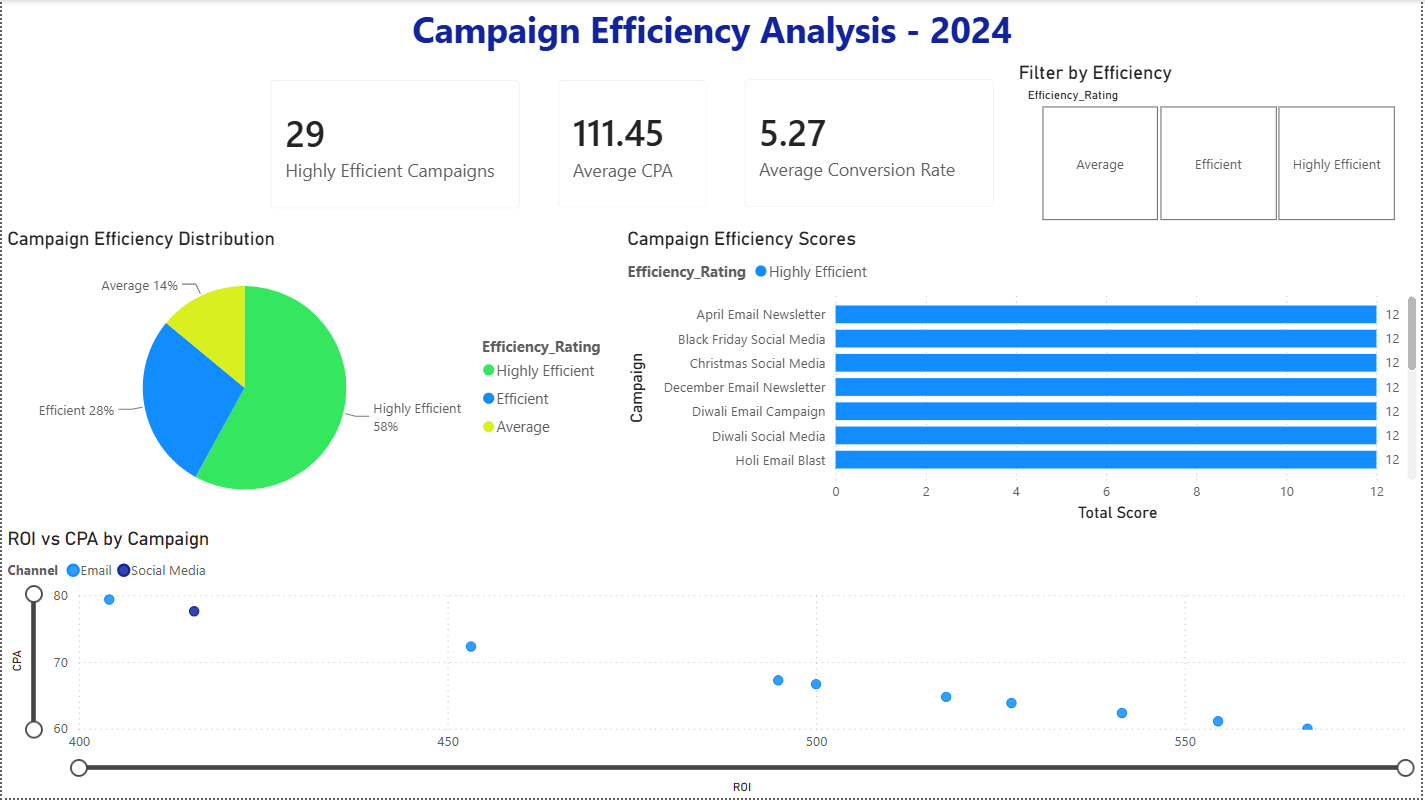

What the dashboard file says about the page in this screenshot:
{"tool":"powerbi","page":{"name":"Efficiency Analysis","canvas":[1280,720],"ordinal":2},"visuals":[{"type":"textbox","box":[0,0,1280.3,57.5],"z":0},{"type":"cardVisual","fields":{"Data":["CountNonNull(Efficiency_Score.Efficiency_Rating)"]},"box":[225,55,259.2,150.4],"z":1000},{"type":"cardVisual","fields":{"Data":["Avg(Efficiency_Score.CPA)"]},"box":[484.2,55,168.8,149.2],"z":2000},{"type":"cardVisual","fields":{"Data":["Avg(Efficiency_Score.Conv_Rate)"]},"box":[653,53.8,259.2,150.4],"z":3000},{"type":"pieChart","title":"Campaign Efficiency Distribution","fields":{"Category":["Efficiency_Score.Efficiency_Rating"],"Y":["CountNonNull(Efficiency_Score.campaign_name)"]},"box":[0,205.4,558.8,270.2],"z":4000},{"type":"clusteredBarChart","title":"Campaign Efficiency Scores","fields":{"Category":["Efficiency_Score.campaign_name"],"Y":["Sum(Efficiency_Score.Total_Score)"],"Series":["Efficiency_Score.Efficiency_Rating"]},"box":[558.8,205.4,721.5,270.2],"z":5000},{"type":"scatterChart","title":"ROI vs CPA by Campaign","fields":{"X":["Avg(Efficiency_Score.ROI)"],"Y":["Avg(Efficiency_Score.CPA)"],"Series":["Efficiency_Score.channel_name"],"Category":["Efficiency_Score.campaign_name"]},"box":[0,475.7,1280.3,244.6],"z":6000},{"type":"slicer","title":"Filter by Efficiency","fields":{"Values":["Efficiency_Score.Efficiency_Rating"]},"box":[912.2,55,368.1,150.4],"z":7000}]}

Visuals, with their boxes in screenshot pixels (x1, y1, x2, y2), scaled from the page's 1280x720 canvas onto the 1425x801 screenshot:
textbox: [0,0,1424,64]
cardVisual - CountNonNull(Efficiency_Score.Efficiency_Rating): [250,61,539,229]
cardVisual - Avg(Efficiency_Score.CPA): [539,61,727,227]
cardVisual - Avg(Efficiency_Score.Conv_Rate): [727,60,1016,227]
"Campaign Efficiency Distribution" pieChart: [0,229,622,529]
"Campaign Efficiency Scores" clusteredBarChart: [622,229,1424,529]
"ROI vs CPA by Campaign" scatterChart: [0,529,1424,800]
"Filter by Efficiency" slicer: [1016,61,1424,229]
